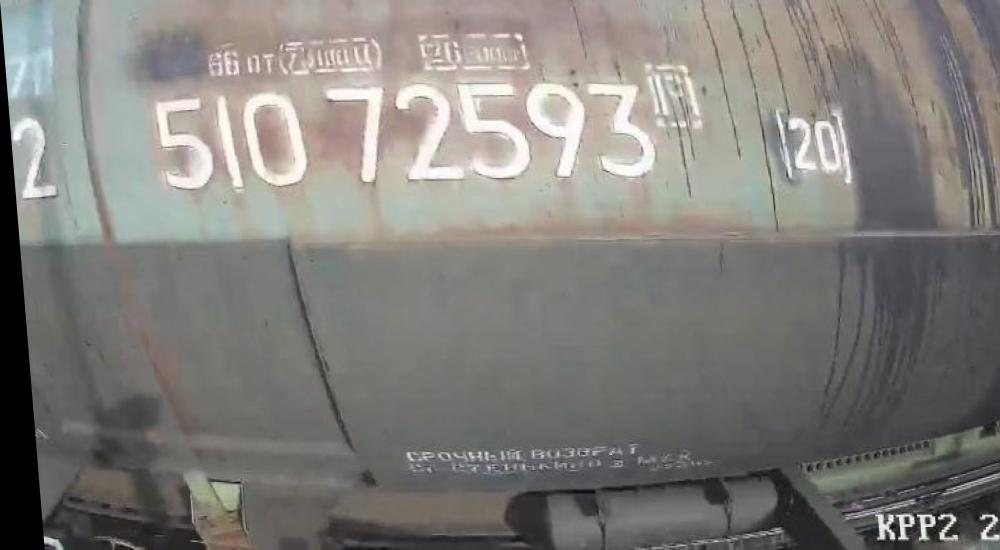Wagon-number: (145, 74, 663, 196)
